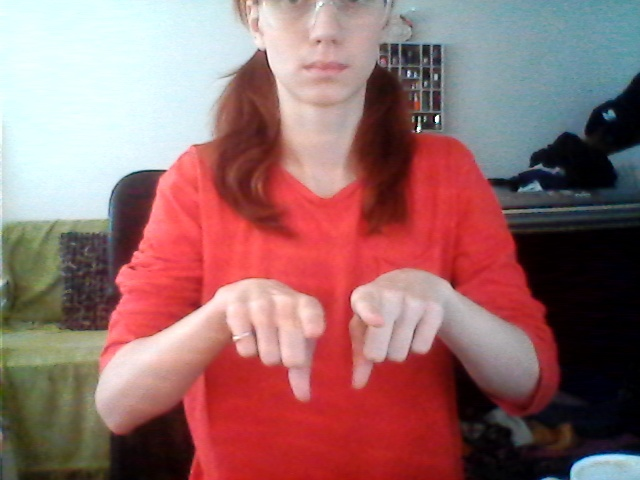sestra: (205, 255, 454, 410)
